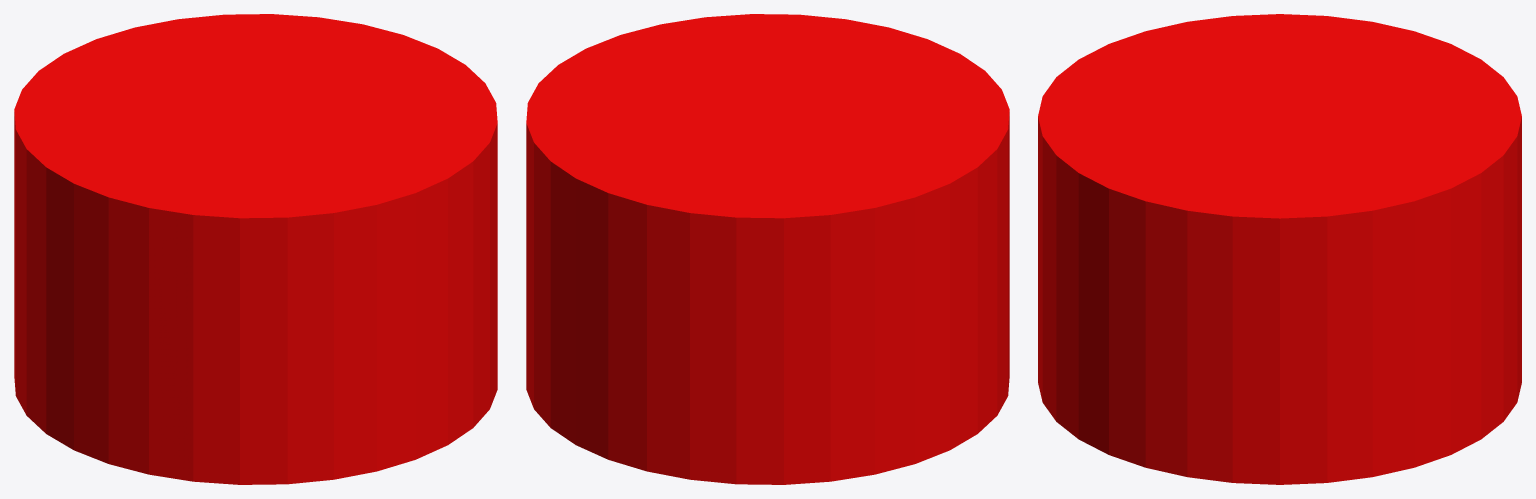
Rendered from goal1.obj.
3 renders of one model, left to right at view 1: azimuth 30°, elevation 25°; view 2: azimuth 150°, elevation 25°; view 3: azimuth 270°, elevation 25°, orthographic.
Parts seen in each view (by area): view 1: 円柱; view 2: 円柱; view 3: 円柱.
Boxes of the visible parts, box(x1,y1,x2,y2) form: 円柱: box(14, 14, 497, 484); 円柱: box(526, 14, 1009, 484); 円柱: box(1038, 14, 1521, 484).
Size of the model in its own units: 0.721 by 0.438 by 0.721.
